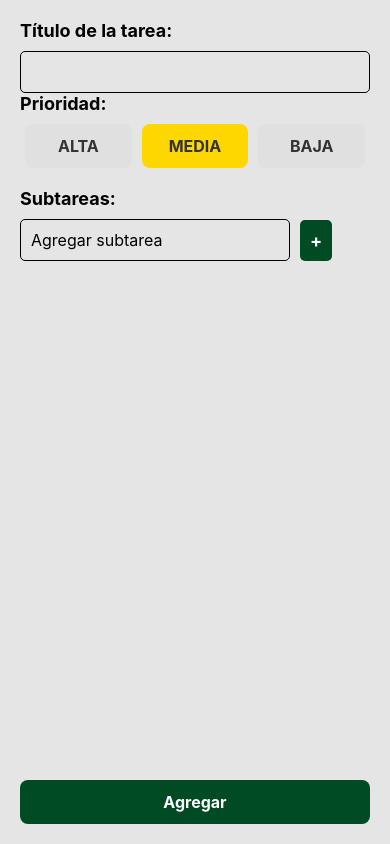
TaskForm Component › Debe agregar una subtarea correctamente
Type "Subtarea 1" into the field with placeholder "Agregar subtarea". click: (155, 240)
box: x1=20 y1=219 x2=290 y2=261
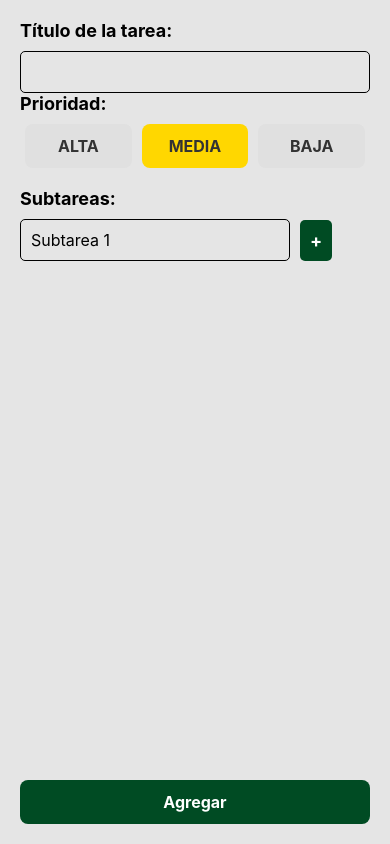
Click the text "+". click: (316, 240)
box: x1=310 y1=230 x2=322 y2=250
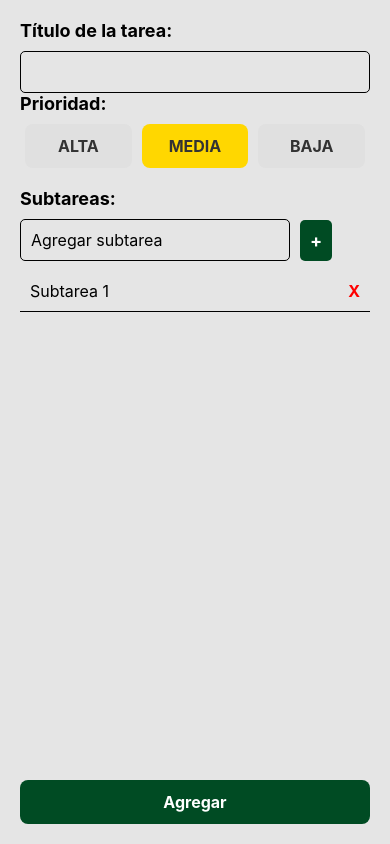
Result: the text "Subtarea 1" is shown at x1=30 y1=281 x2=109 y2=301
